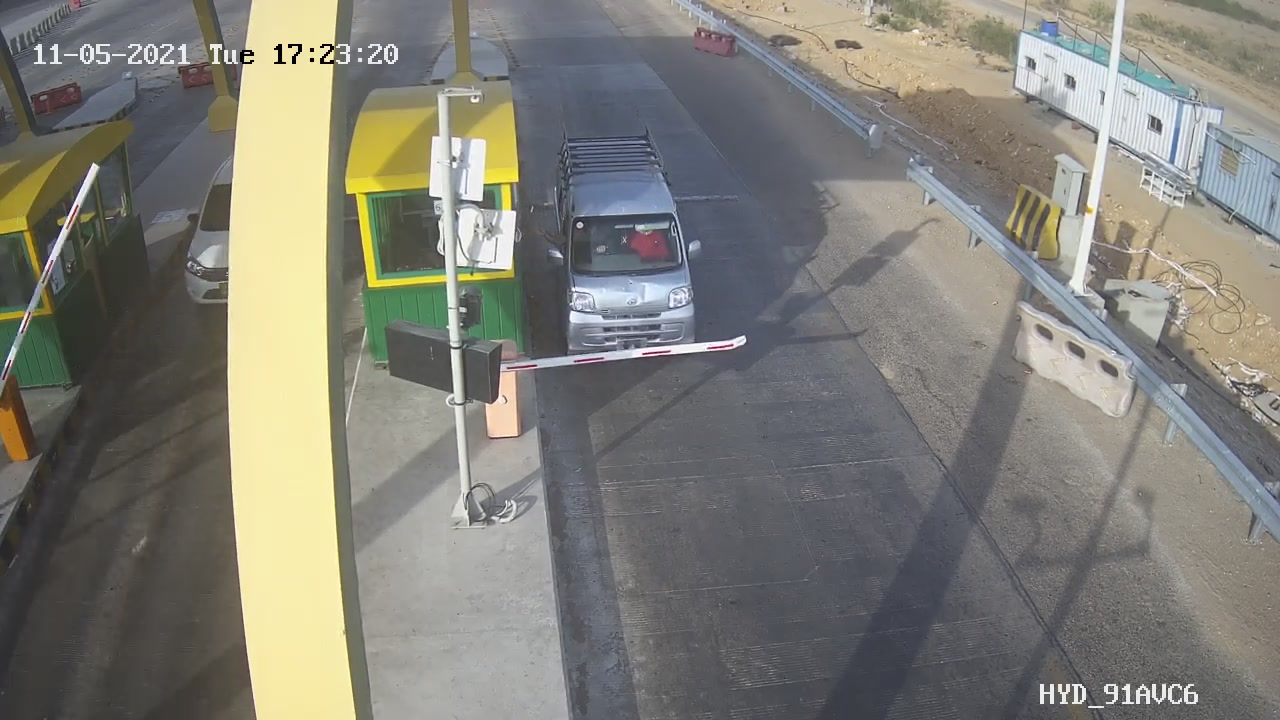F1: (543, 116, 709, 370)
